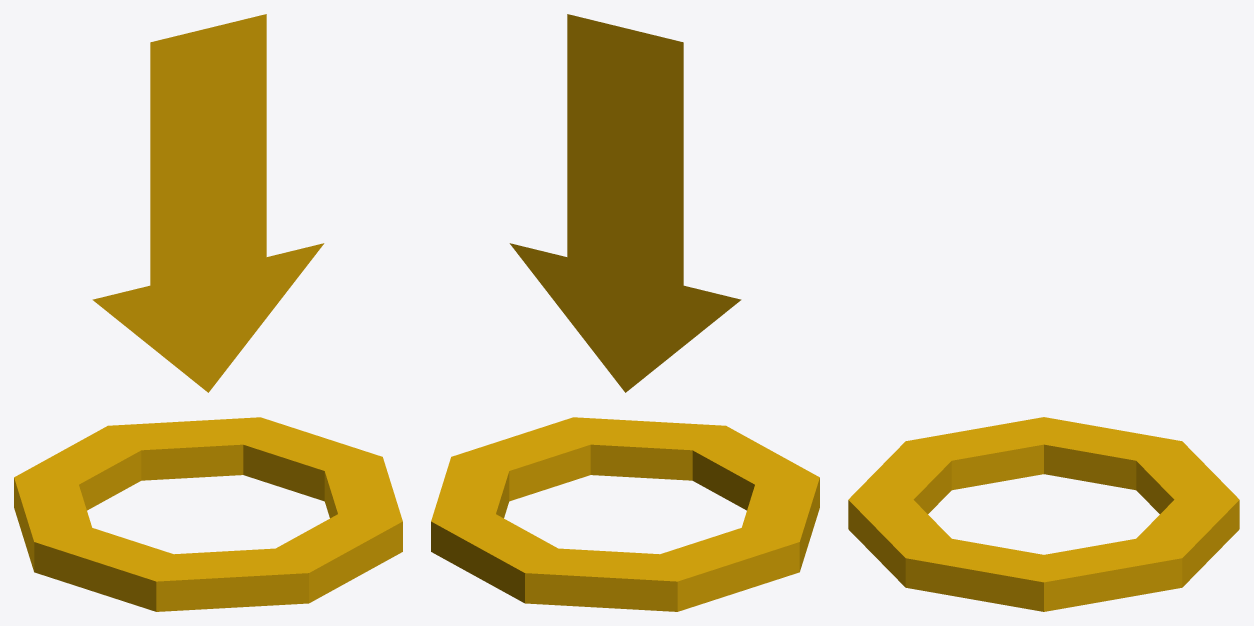
Rendered from target.fbx.
3 renders of one model, left to right at view 1: azimuth 30°, elevation 25°; view 2: azimuth 150°, elevation 25°; view 3: azimuth 270°, elevation 25°, orthographic. The views are drawn at different scales.
Visible parts, largest first — view 1: pPipe1, pPlane1; view 2: pPipe1, pPlane1; view 3: pPipe1.
Boxes of the visible parts, left/top/right/bottom form: pPipe1: left=14, top=417, right=402, bottom=611; pPlane1: left=92, top=14, right=324, bottom=392; pPipe1: left=431, top=417, right=819, bottom=611; pPlane1: left=509, top=14, right=741, bottom=392; pPipe1: left=848, top=417, right=1239, bottom=611.
Size of the model in its own units: 3 by 4.13 by 3.
